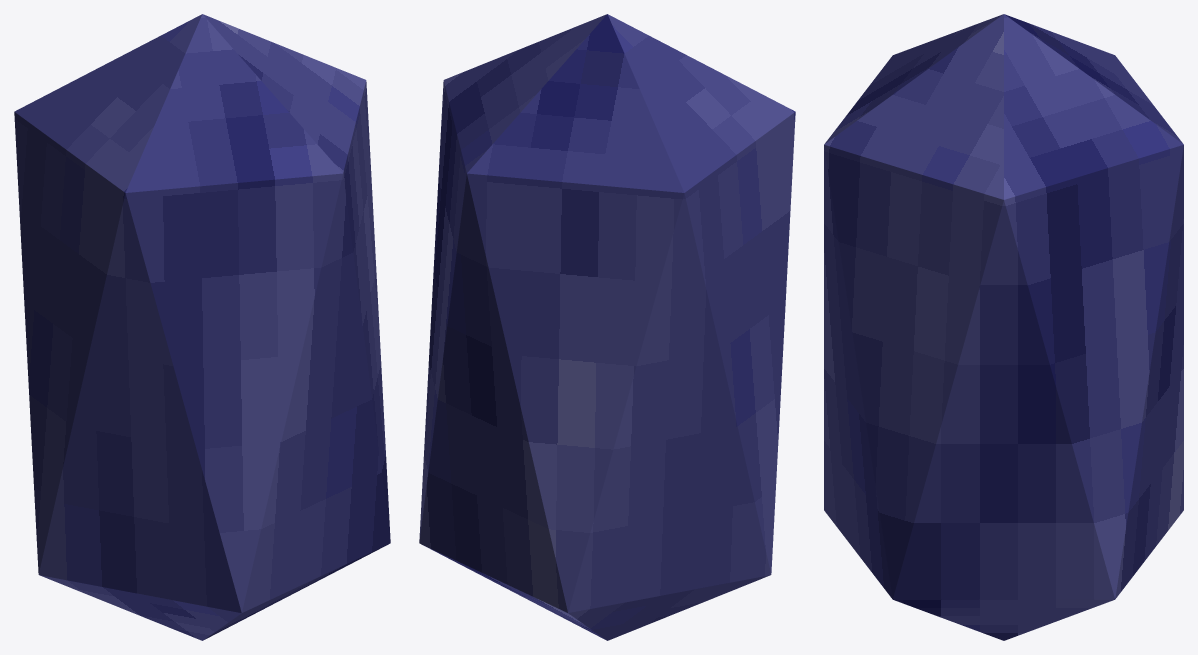
Rendered from Tutorial.018.obj.
3 renders of one model, left to right at view 1: azimuth 30°, elevation 25°; view 2: azimuth 150°, elevation 25°; view 3: azimuth 270°, elevation 25°, orthographic.
Visible parts, largest first — view 1: Tutorial.018; view 2: Tutorial.018; view 3: Tutorial.018.
Part boxes in pixels (x1,y1,x2,y2): Tutorial.018: (14,14,390,640); Tutorial.018: (419,14,795,640); Tutorial.018: (824,14,1183,640).
Size of the model in its own units: 1.79 by 3.27 by 1.7.
Materials: 1 (1 with a texture image).
